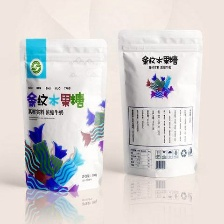snack: (14, 33, 112, 195), (112, 24, 207, 182)
